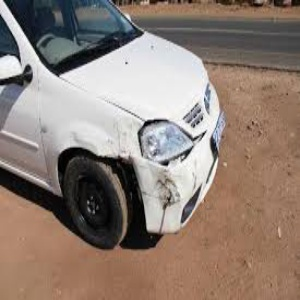bumper_scratch: (57, 110, 187, 189)
